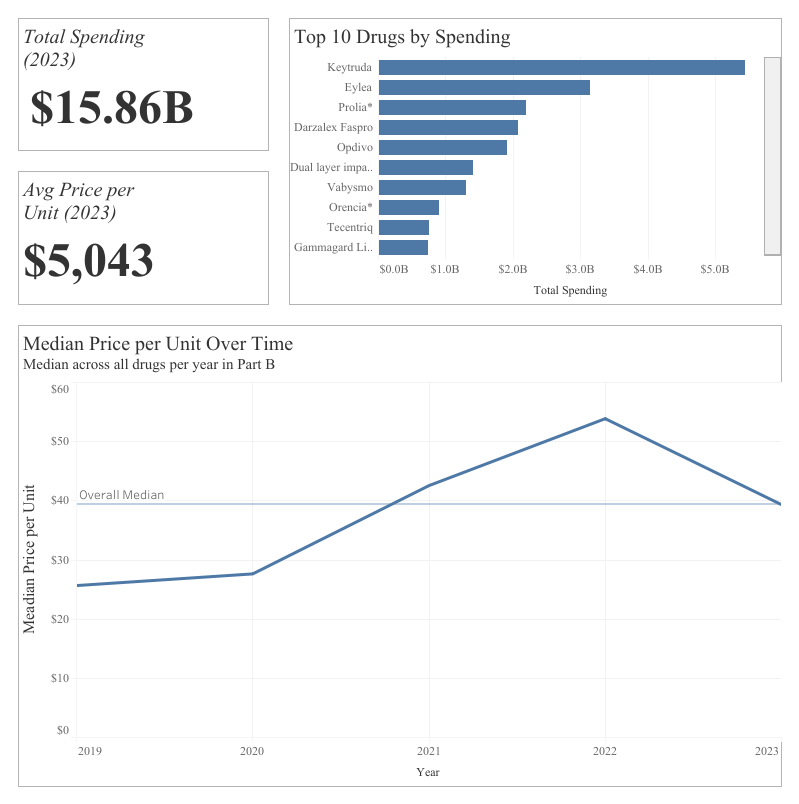

Layout of this report page (visuals, bound fields, positions):
{"tool":"tableau","page":{"name":"Dashboard 2","canvas":[1000,1000],"units":"permille","ordinal":1},"visuals":[{"type":"worksheet","title":"Total Spending (2023)","mark":"Automatic","box":[10,9.3,338.8,190.8]},{"type":"worksheet","title":"Top Drugs by Spending","mark":"Automatic","rows":["drug_name"],"cols":["tot_spndng"],"box":[348.8,9.3,641.2,381.6]},{"type":"worksheet","title":"Avg Price per Unit (2023)","mark":"Automatic","box":[10,200.1,338.8,190.8]},{"type":"worksheet","title":"Median Price per Unit Over Time","mark":"Line","rows":["Calculation_3104221362872321"],"cols":["year"],"box":[10,390.9,980,599.8]}]}

Visuals, with their boxes on the dashboard's canvas, which has no fixed pixel size, in thousandths of its width and height (x1, y1, x2, y2). These are canvas units, not pixel positions in the 799x804 screenshot, which may show the page scaled, cropped or inside an application window:
"Total Spending (2023)" worksheet: crop(10, 9, 349, 200)
"Top Drugs by Spending" worksheet: crop(349, 9, 990, 391)
"Avg Price per Unit (2023)" worksheet: crop(10, 200, 349, 391)
"Median Price per Unit Over Time" worksheet (Line marks): crop(10, 391, 990, 991)
